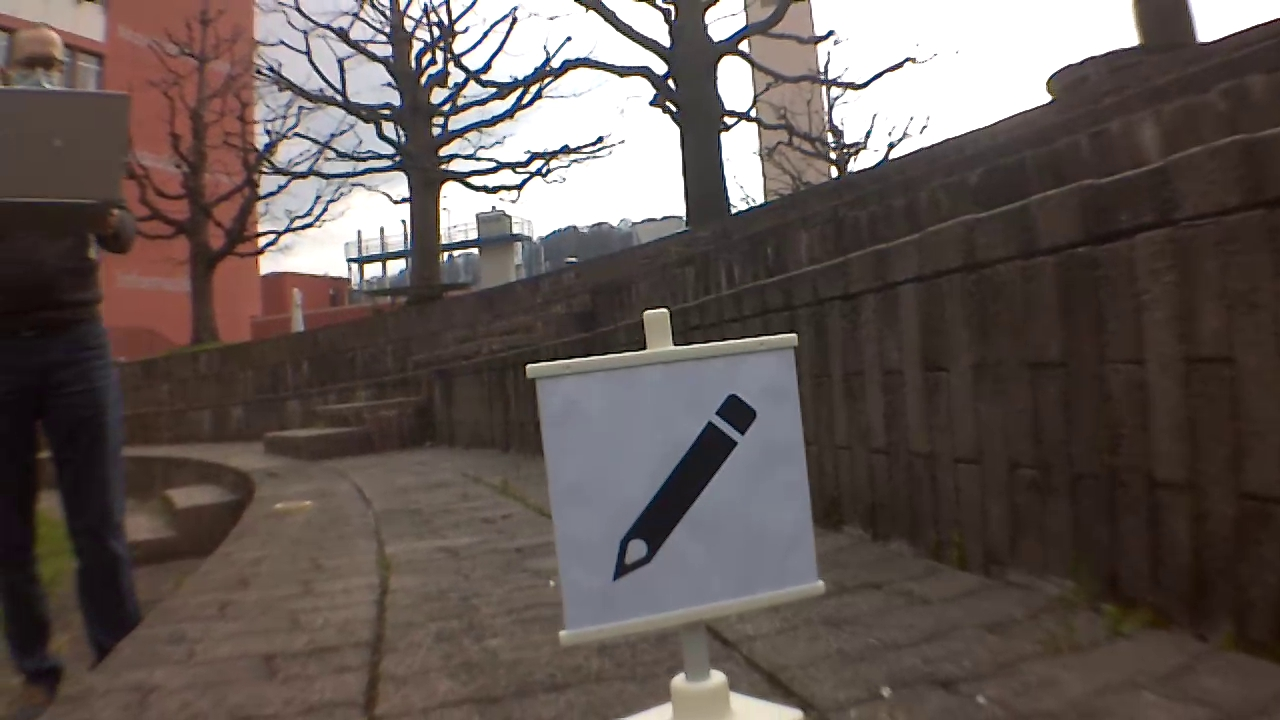pencil: (610, 389, 763, 580)
